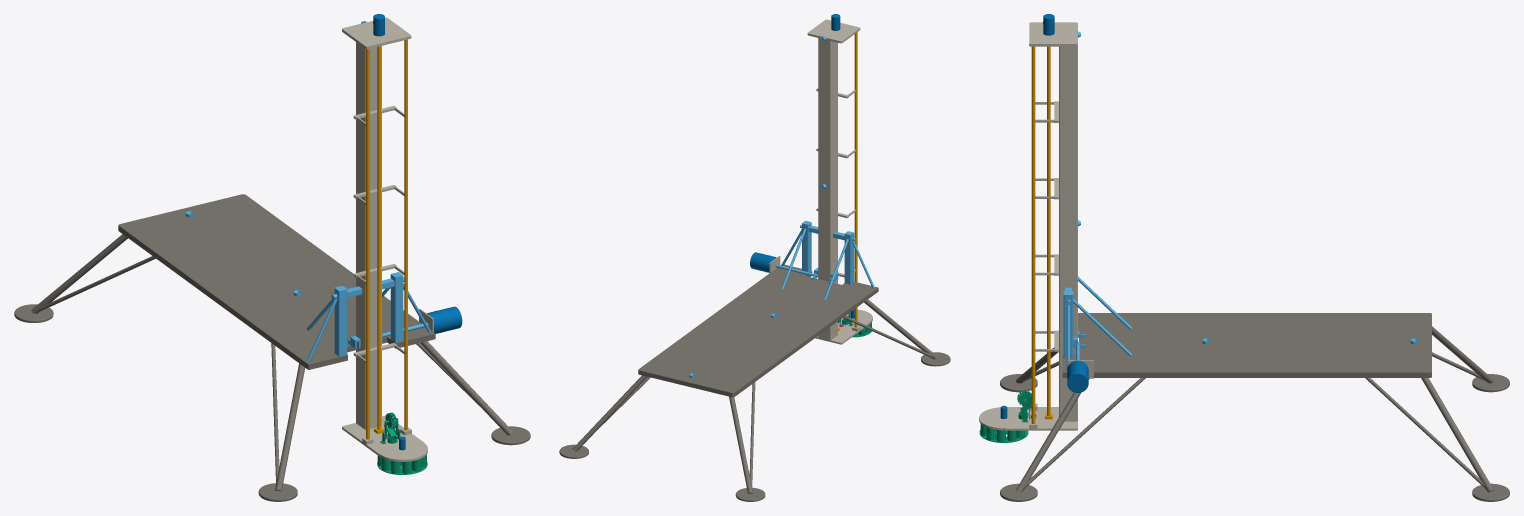
The model's file is mast_and_brush.glb.
The picture shows the model from 3 angles, left to right: view 1: azimuth 30°, elevation 25°; view 2: azimuth 150°, elevation 25°; view 3: azimuth 270°, elevation 25°; orthographic projection. The views are drawn at different scales.
Visible parts, largest first — view 1: Deck_Face_Sheet, Mast_Spine_80x80x3, Lander_Deck_Panel, Mast_Foot_Plate, Guide_Rail_L, Guide_Rail_R, Leadscrew_Tr16x4, Mast_Crosshead, Leg_1_Main, Leg_2_Main, Latch_Post_R, Latch_Post_L (+5 smaller); view 2: Deck_Face_Sheet, Mast_Spine_80x80x3, Lander_Deck_Panel, Guide_Rail_L, Mast_Crosshead, Mast_Foot_Plate, Leg_4_Main, Leg_3_Main, Latch_Post_L, Leg_1_Main, Latch_Post_R; view 3: Deck_Face_Sheet, Mast_Spine_80x80x3, Lander_Deck_Panel, Guide_Rail_R, Mast_Foot_Plate, Leadscrew_Tr16x4, Mast_Crosshead, Leg_4_Main, Leg_2_Main, Leg_2_Brace, Leg_4_Brace, Deploy_Actuator_BLDC_StrainWave.
Part boxes in pixels (x1=…): Deck_Face_Sheet: x1=119, y1=194, x2=424, y2=357; Mast_Spine_80x80x3: x1=356, y1=21, x2=381, y2=429; Lander_Deck_Panel: x1=118, y1=194, x2=435, y2=369; Mast_Foot_Plate: x1=342, y1=415, x2=427, y2=461; Guide_Rail_L: x1=366, y1=49, x2=369, y2=439; Guide_Rail_R: x1=404, y1=39, x2=407, y2=430; Leadscrew_Tr16x4: x1=377, y1=46, x2=380, y2=429; Mast_Crosshead: x1=342, y1=17, x2=411, y2=49; Leg_1_Main: x1=275, y1=363, x2=304, y2=491; Leg_2_Main: x1=420, y1=341, x2=513, y2=435; Latch_Post_R: x1=390, y1=272, x2=403, y2=342; Latch_Post_L: x1=334, y1=285, x2=347, y2=356; Deck_Face_Sheet: x1=638, y1=269, x2=870, y2=392; Mast_Spine_80x80x3: x1=818, y1=30, x2=837, y2=341; Lander_Deck_Panel: x1=638, y1=264, x2=878, y2=397; Guide_Rail_L: x1=854, y1=32, x2=857, y2=327; Mast_Crosshead: x1=807, y1=19, x2=860, y2=43; Mast_Foot_Plate: x1=815, y1=309, x2=872, y2=344; Leg_4_Main: x1=572, y1=375, x2=647, y2=451; Leg_3_Main: x1=729, y1=396, x2=752, y2=493; Latch_Post_L: x1=844, y1=231, x2=854, y2=284; Leg_1_Main: x1=864, y1=299, x2=937, y2=359; Latch_Post_R: x1=802, y1=220, x2=811, y2=272; Deck_Face_Sheet: x1=1079, y1=313, x2=1431, y2=372; Mast_Spine_80x80x3: x1=1059, y1=29, x2=1077, y2=421; Lander_Deck_Panel: x1=1062, y1=313, x2=1431, y2=377; Guide_Rail_R: x1=1031, y1=46, x2=1035, y2=423; Mast_Foot_Plate: x1=979, y1=407, x2=1077, y2=430; Leadscrew_Tr16x4: x1=1047, y1=46, x2=1050, y2=415; Mast_Crosshead: x1=1029, y1=22, x2=1077, y2=46; Leg_4_Main: x1=1421, y1=378, x2=1493, y2=492; Leg_2_Main: x1=1016, y1=378, x2=1089, y2=492; Leg_2_Brace: x1=1019, y1=378, x2=1145, y2=491; Leg_4_Brace: x1=1365, y1=378, x2=1490, y2=491; Deploy_Actuator_BLDC_StrainWave: x1=1067, y1=360, x2=1088, y2=392.
Size of the model in its own units: 1.26 by 1.98 by 2.25.
